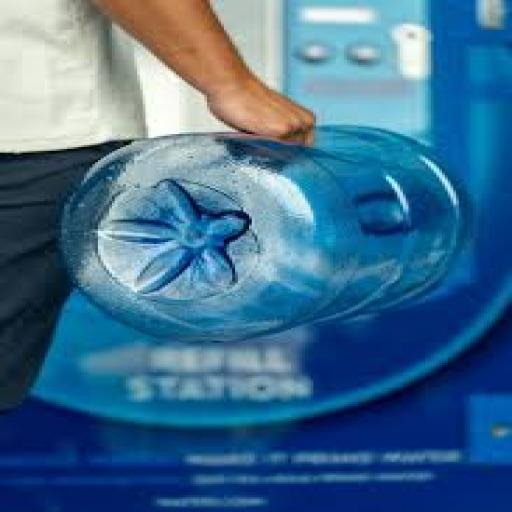blue-bottle: (62, 127, 464, 341)
